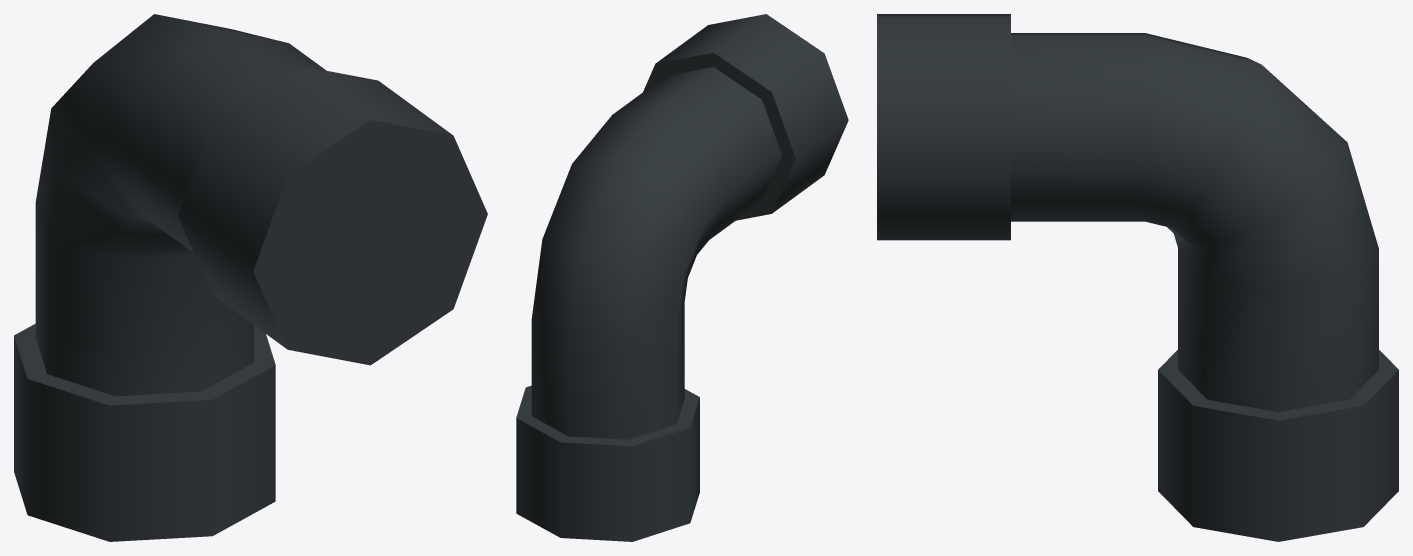
The model's file is SW_PROP_SignalLight_SupportPipe_02.fbx.
The picture shows the model from 3 angles, left to right: view 1: azimuth 30°, elevation 25°; view 2: azimuth 150°, elevation 25°; view 3: azimuth 270°, elevation 25°; orthographic projection. The views are drawn at different scales.
Parts seen in each view (by area): view 1: SW_PROP_SignalLight_SupportPipe_02; view 2: SW_PROP_SignalLight_SupportPipe_02; view 3: SW_PROP_SignalLight_SupportPipe_02.
Boxes of the visible parts, x1,y1,x2,y2 form: SW_PROP_SignalLight_SupportPipe_02: (14, 14, 487, 541); SW_PROP_SignalLight_SupportPipe_02: (516, 14, 848, 541); SW_PROP_SignalLight_SupportPipe_02: (877, 14, 1398, 541).
Bounding box in the file's own units: 0.09 × 0.195 × 0.195.
